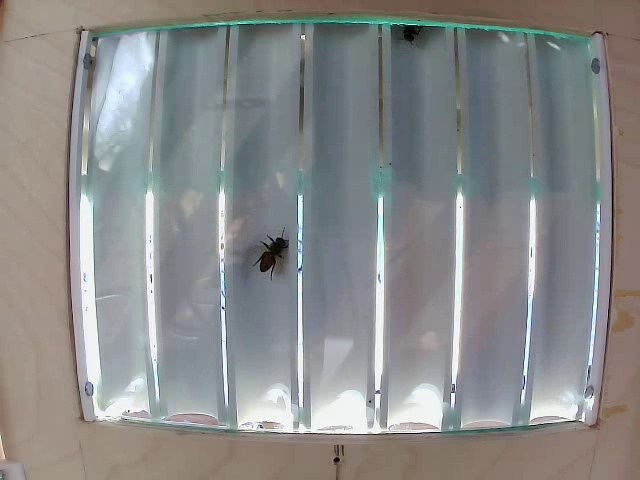bee: (249, 233, 287, 278)
